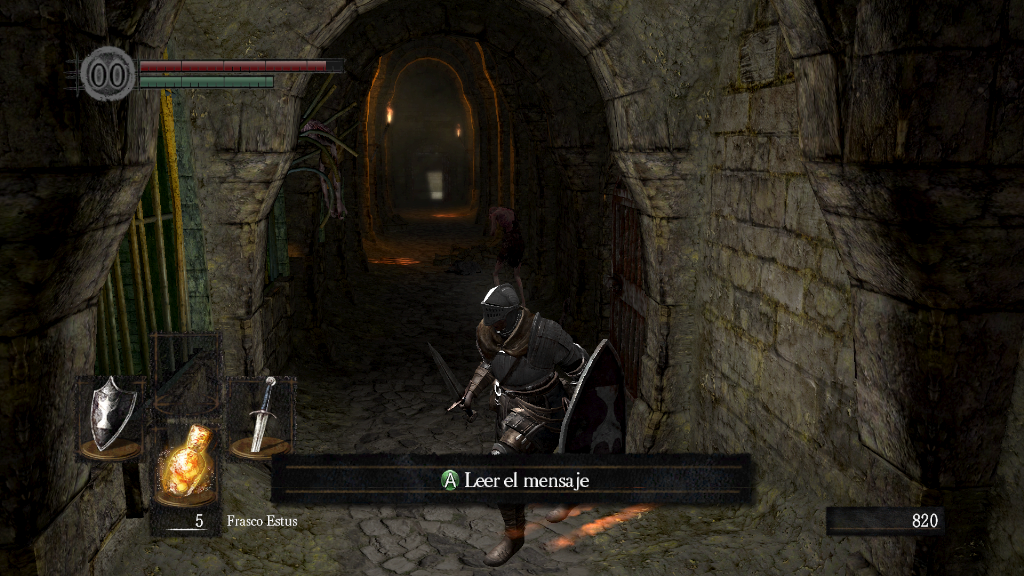dialogBox: (270, 453, 753, 506)
health: (138, 58, 343, 71)
hollow: (478, 200, 531, 312)
humanity: (80, 45, 136, 102)
player: (426, 283, 630, 566)
souls: (825, 506, 945, 536)
stamina: (138, 74, 274, 88)
